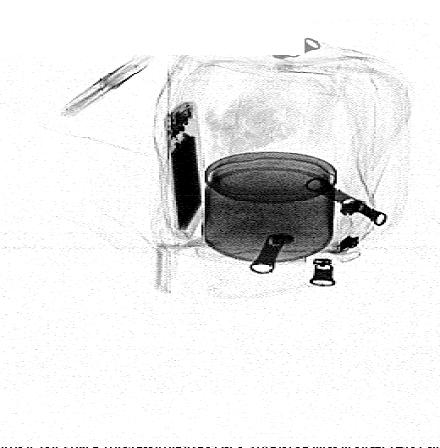Powerbank: (162, 101, 213, 241)
